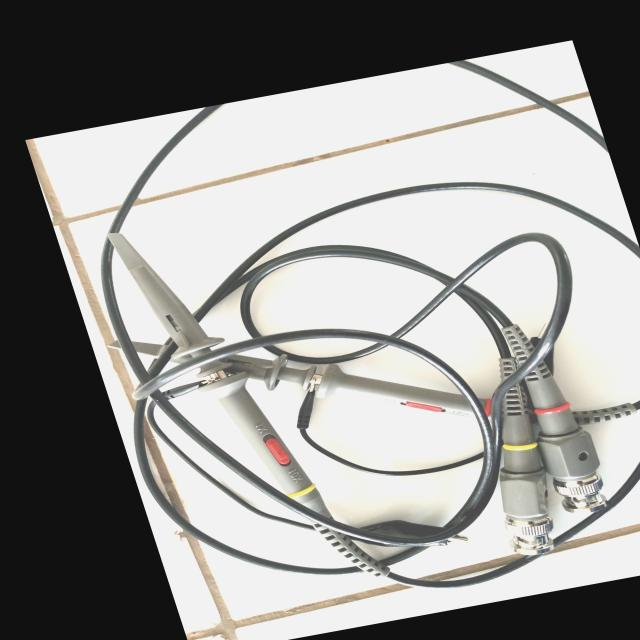CRO Probes: (80, 145, 640, 634)
